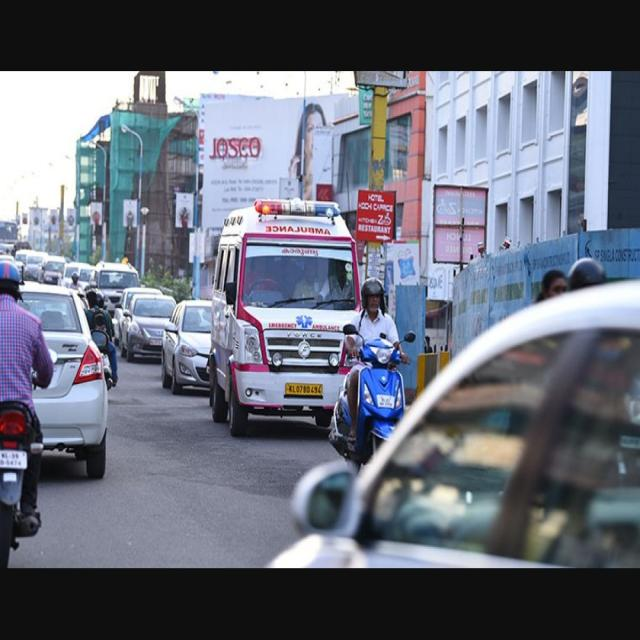car: (272, 280, 640, 567), (20, 282, 109, 478), (161, 300, 211, 393), (120, 293, 176, 360)
emergency: (208, 198, 360, 436)
motorcycle: (0, 260, 54, 566), (330, 278, 408, 463)
